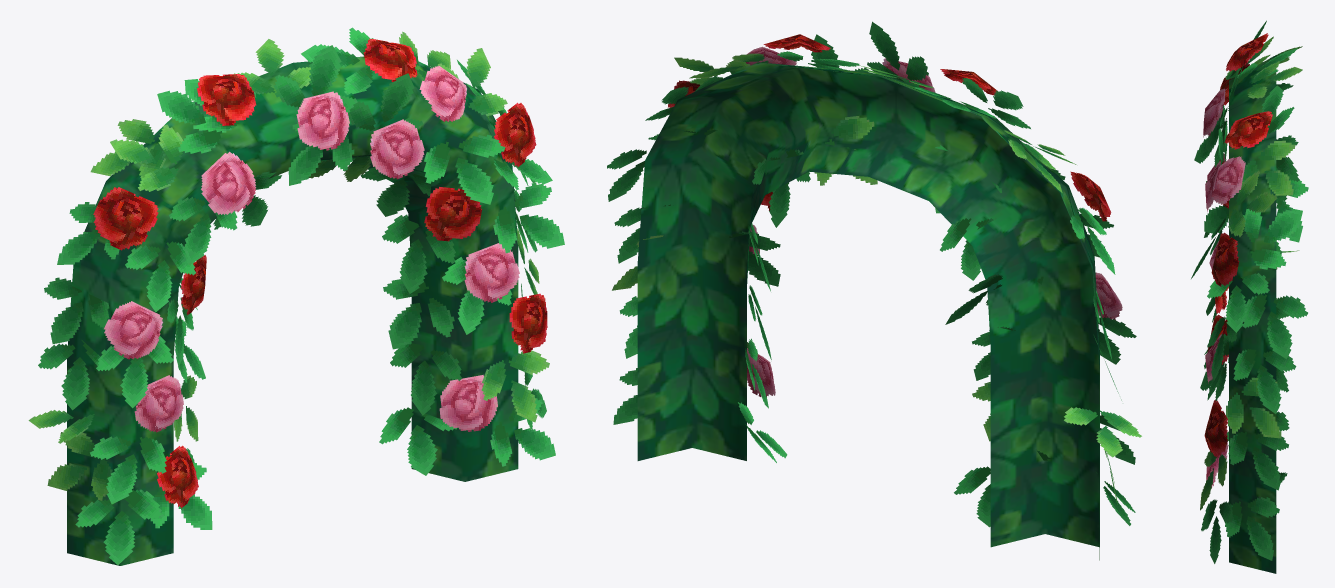
The model's file is fobj_arch_flower.obj.
3 views of the same model, side by side, from view 1: azimuth 30°, elevation 25°; view 2: azimuth 150°, elevation 25°; view 3: azimuth 270°, elevation 25° (orthographic). The views are drawn at different scales.
Parts seen in each view (by area): view 1: vsn_mesh_0__mesh_0_.001, vsn_mesh_1__mesh_1_; view 2: vsn_mesh_1__mesh_1_, vsn_mesh_0__mesh_0_.001; view 3: vsn_mesh_0__mesh_0_.001, vsn_mesh_1__mesh_1_.
Boxes of the visible parts, left/top/right/bottom form: vsn_mesh_0__mesh_0_.001: left=28, top=27, right=564, bottom=564; vsn_mesh_1__mesh_1_: left=67, top=56, right=518, bottom=565; vsn_mesh_1__mesh_1_: left=637, top=62, right=1099, bottom=560; vsn_mesh_0__mesh_0_.001: left=607, top=21, right=1141, bottom=527; vsn_mesh_0__mesh_0_.001: left=1191, top=20, right=1308, bottom=563; vsn_mesh_1__mesh_1_: left=1229, top=55, right=1276, bottom=573.
Bounding box in the file's own units: 94.88 × 82.38 × 23.91.
Materials: 2 (2 with a texture image).
